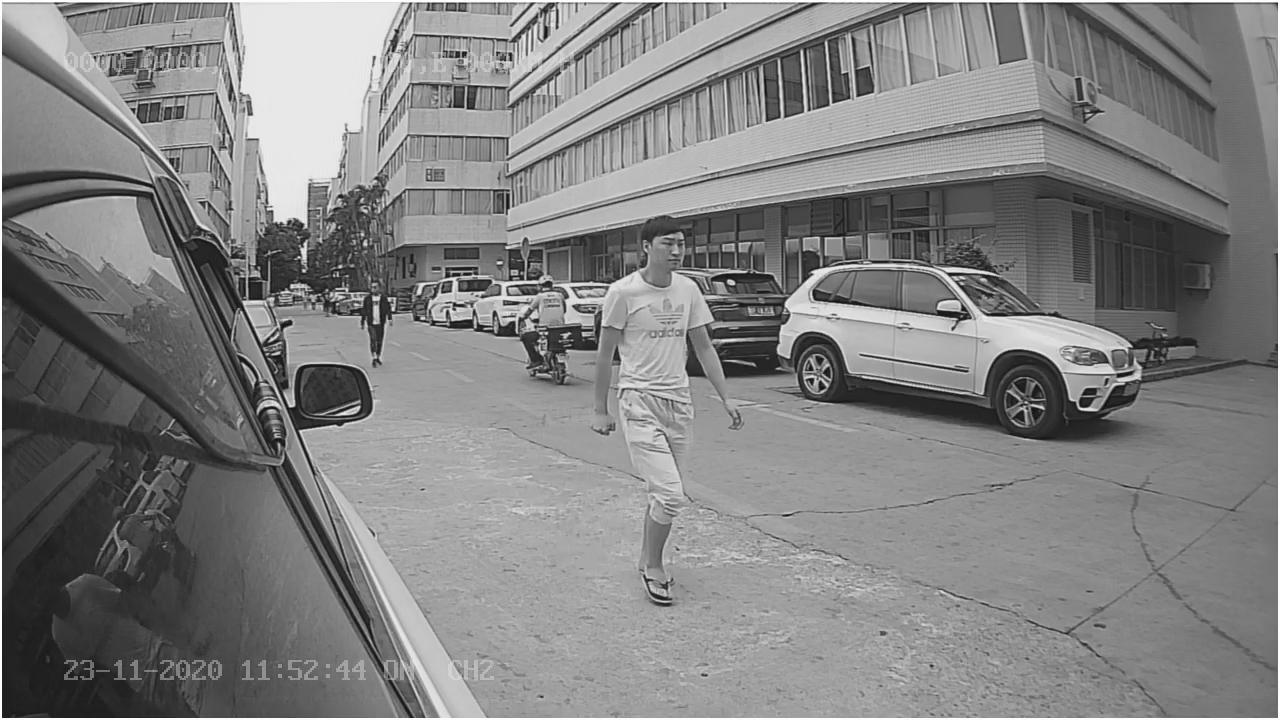person: (594, 209, 727, 590)
